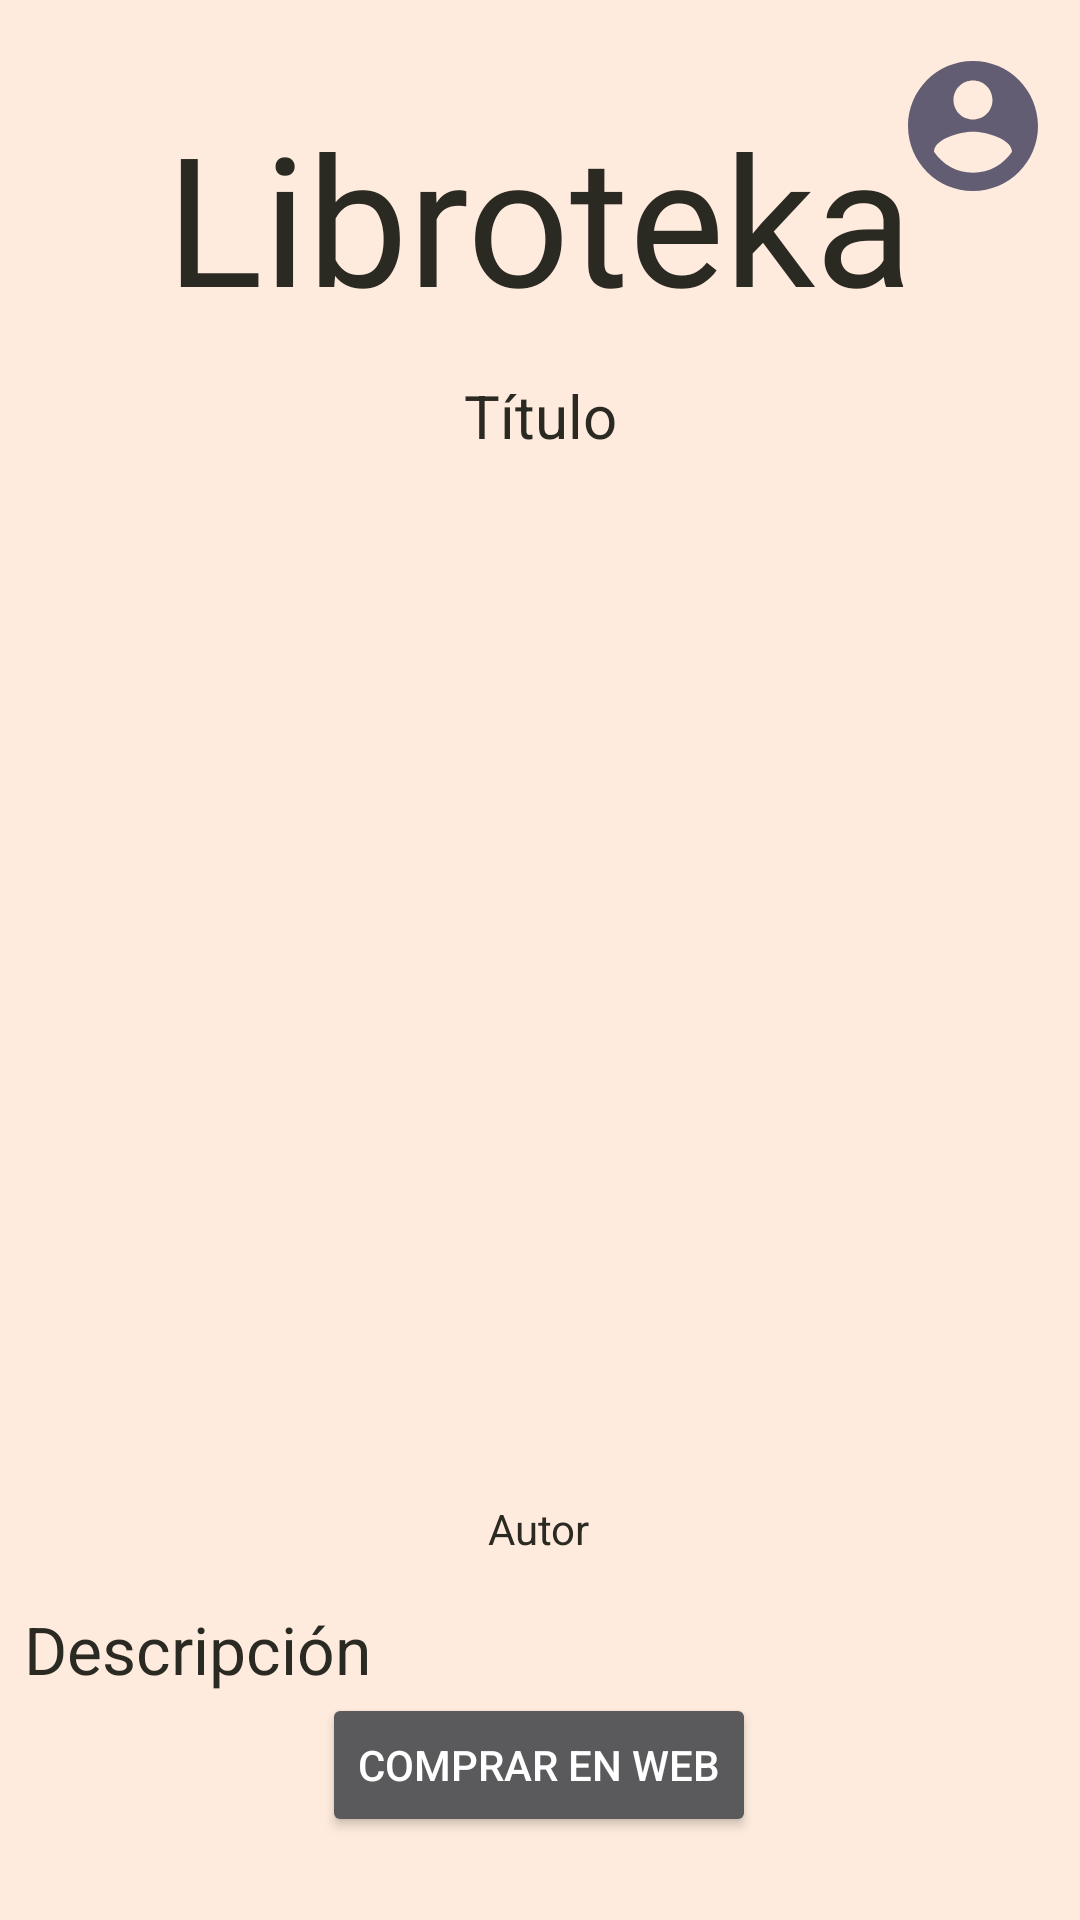

Icon bounding boxes for this 1080px x 1920px phone screenshot, format (x1, y1, x2, y2):
login: (908, 61, 1038, 191)
